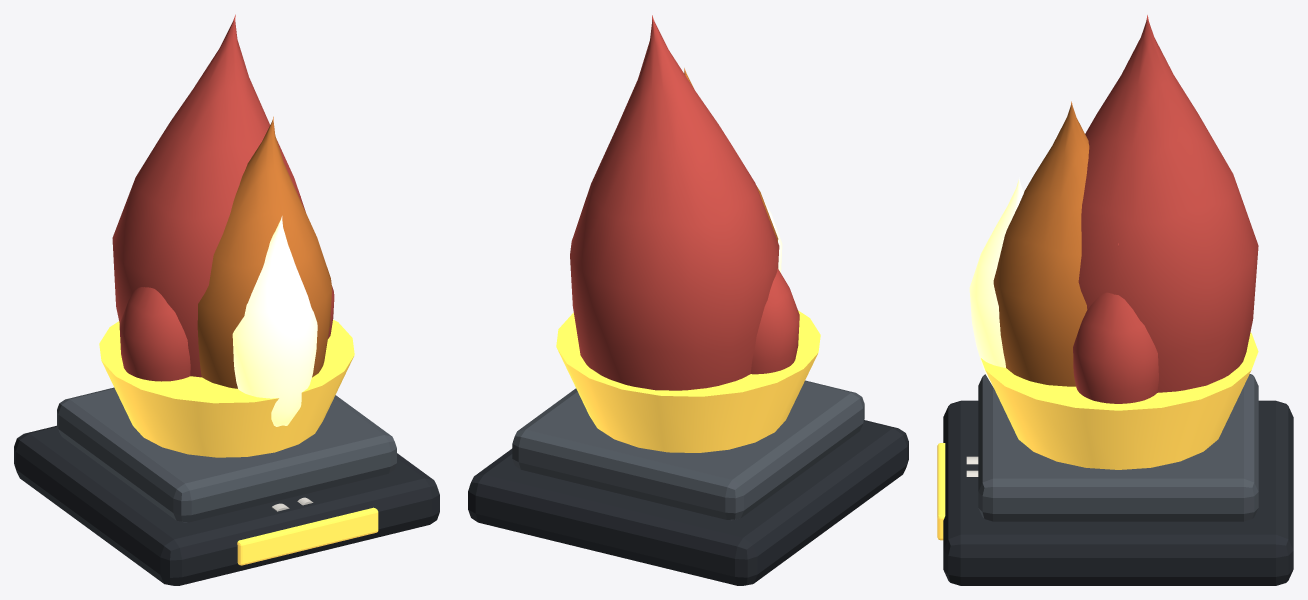
File: trofeu-chama.glb
The picture shows the model from 3 angles, left to right: view 1: azimuth 30°, elevation 25°; view 2: azimuth 150°, elevation 25°; view 3: azimuth 270°, elevation 25°; orthographic projection. The views are drawn at different scales.
Parts seen in each view (by area): view 1: trofeu-chama; view 2: trofeu-chama; view 3: trofeu-chama.
Part boxes in pixels (x1,y1,x2,y2): trofeu-chama: (14,14,439,585); trofeu-chama: (468,15,908,585); trofeu-chama: (937,15,1293,585).
Bounding box in the file's own units: 0.6 × 0.976 × 0.61.
